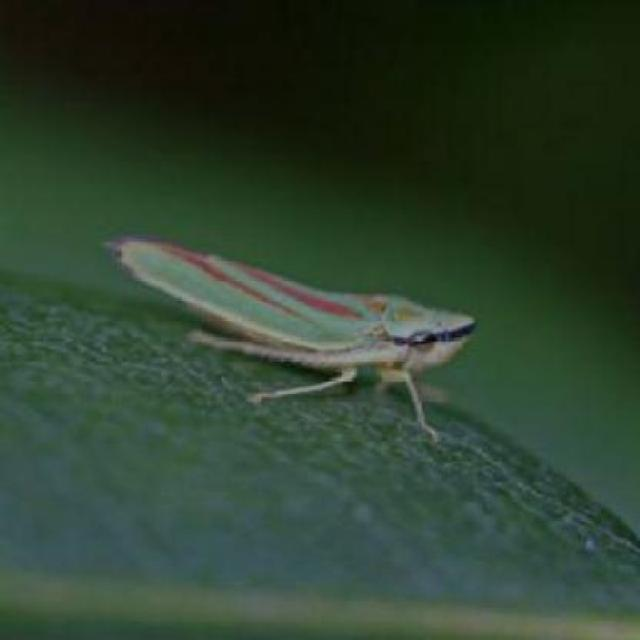green-leafhopper: (115, 229, 450, 414)
